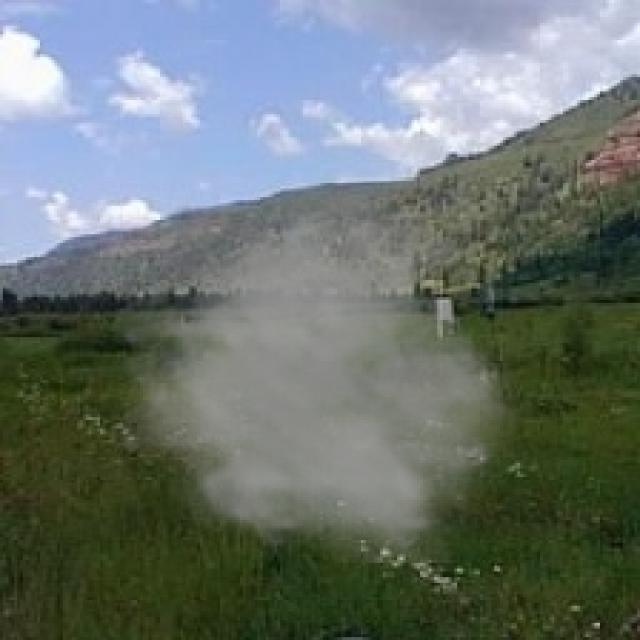Smoke: (106, 174, 526, 563)
